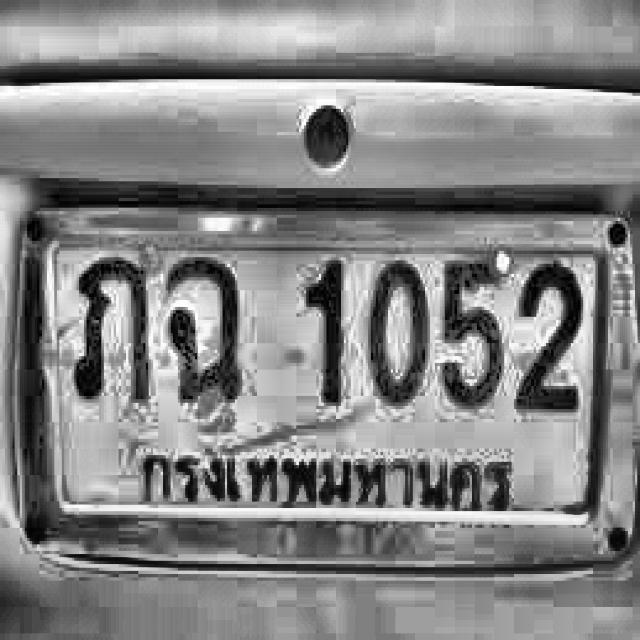license-plate: (11, 186, 640, 589)
